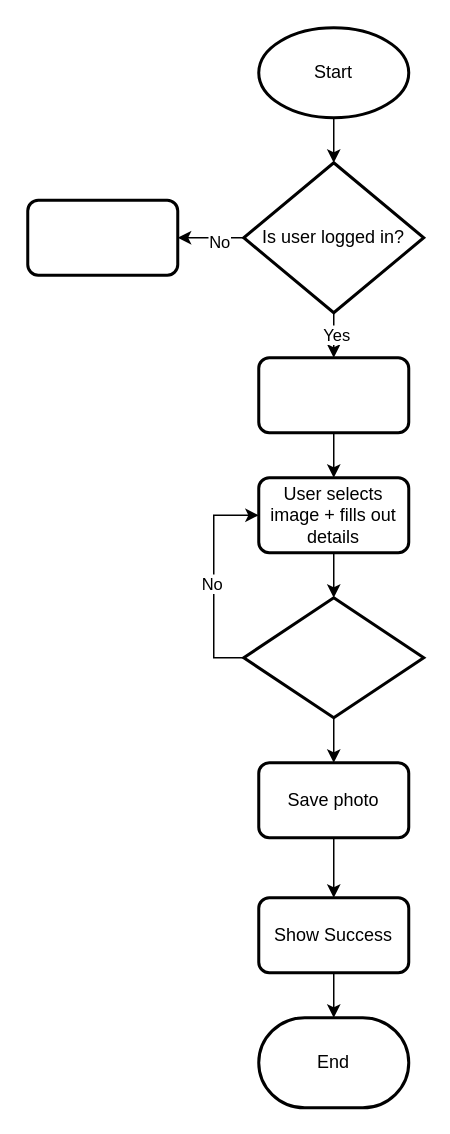
The diagram is 450 pixels wide and 1134 high, and some of its shapes have lost their labels. Each missing label, with the centre of its shape:
"Is image valid?" belongs at point 333,657.
"Redirect to login" belongs at point 102,237.
"Show upload form" belongs at point 333,395.
